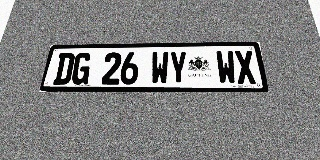2: (101, 52, 122, 85)
6: (120, 52, 139, 84)
D: (52, 53, 76, 85)
G: (70, 53, 92, 85)
W: (215, 51, 237, 84), (150, 52, 169, 84)
X: (234, 50, 257, 84)
Y: (169, 51, 188, 84)
